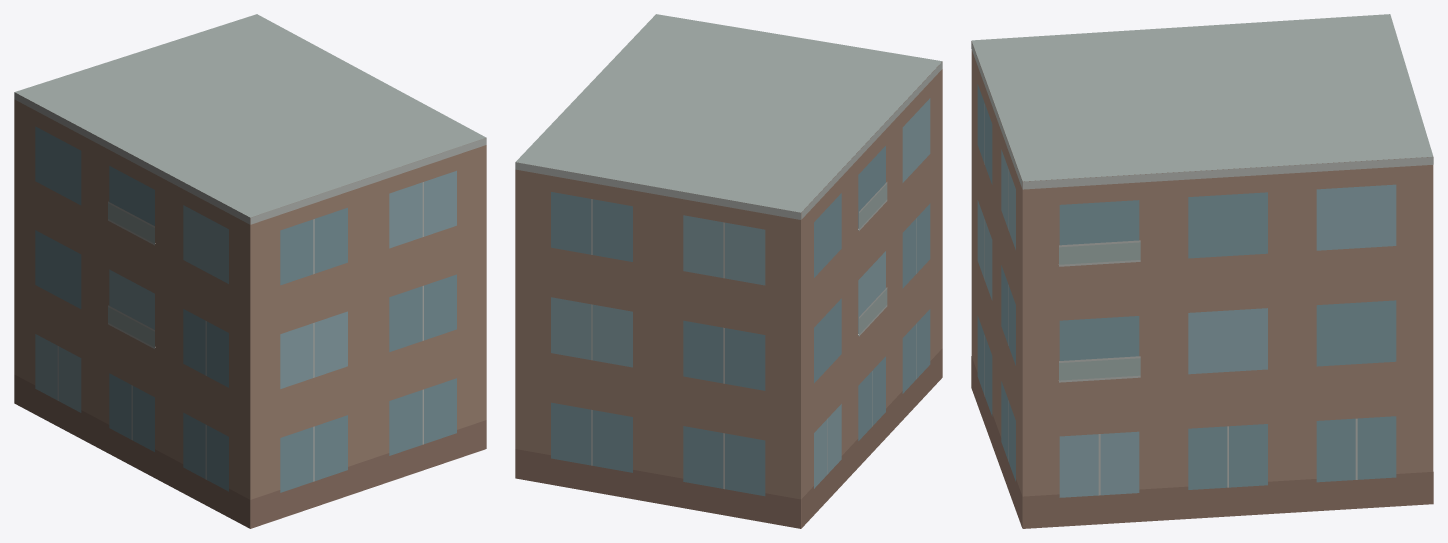
Rendered from survey-upis-32832405.glb.
The picture shows the model from 3 angles, left to right: view 1: azimuth 30°, elevation 25°; view 2: azimuth 150°, elevation 25°; view 3: azimuth 270°, elevation 25°; orthographic projection. The views are drawn at different scales.
Parts seen in each view (by area): view 1: survey-upis-32832405.tmp; view 2: survey-upis-32832405.tmp; view 3: survey-upis-32832405.tmp.
Part boxes in pixels (x1=…): survey-upis-32832405.tmp: x1=14, y1=14, x2=486, y2=528; survey-upis-32832405.tmp: x1=515, y1=14, x2=942, y2=528; survey-upis-32832405.tmp: x1=971, y1=14, x2=1433, y2=528.
Size of the model in its own units: 10.87 by 10.5 by 12.67.
